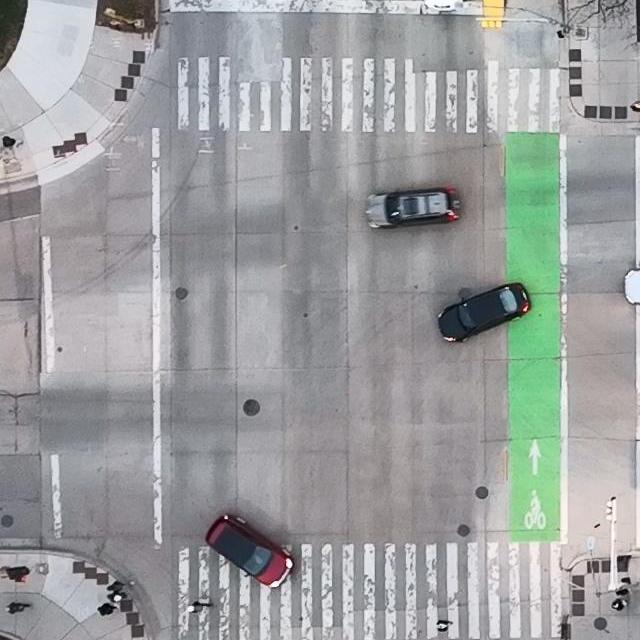car: (206, 514, 293, 590), (437, 282, 531, 342), (365, 187, 464, 230)
